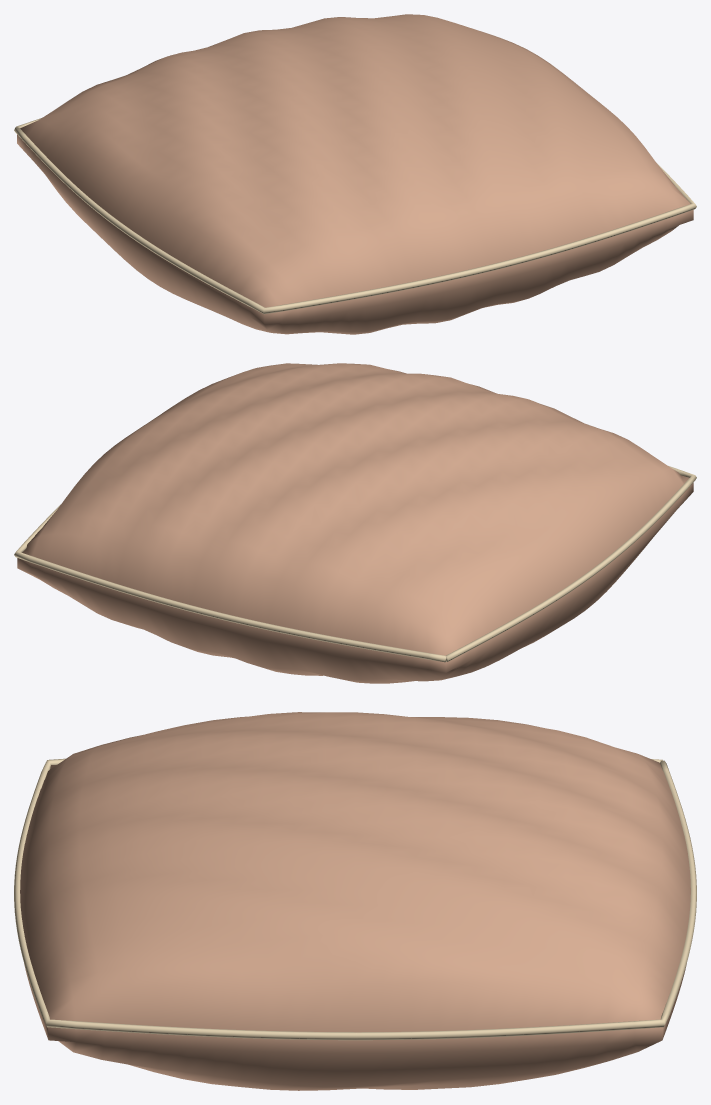
File: square_cushion.glb
3 renders of one model, top to bottom at view 1: azimuth 30°, elevation 25°; view 2: azimuth 150°, elevation 25°; view 3: azimuth 270°, elevation 25°, orthographic. The views are drawn at different scales.
Parts seen in each view (by area): view 1: square_cushion__body, square_cushion__accent; view 2: square_cushion__body, square_cushion__accent; view 3: square_cushion__body, square_cushion__accent.
Part boxes in pixels (x1=…): square_cushion__body: x1=17, y1=14, x2=693, y2=334; square_cushion__accent: x1=14, y1=118, x2=696, y2=314; square_cushion__body: x1=17, y1=363, x2=693, y2=683; square_cushion__accent: x1=14, y1=466, x2=696, y2=662; square_cushion__body: x1=20, y1=712, x2=690, y2=1090; square_cushion__accent: x1=14, y1=758, x2=696, y2=1040.
Bounding box in the file's own units: 0.4352 × 0.1669 × 0.4352.
